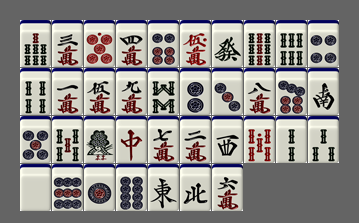0m: (180, 20, 211, 67)
0p: (84, 20, 115, 67)
0s: (244, 116, 275, 163)
1m: (52, 68, 83, 115)
1p: (84, 164, 115, 211)
1s: (84, 116, 115, 163)
1z: (148, 164, 179, 211)
2m: (180, 116, 211, 163)
2p: (180, 68, 211, 115)
2s: (276, 116, 307, 163)
2z: (308, 68, 339, 115)
3m: (52, 20, 83, 67)
3p: (212, 68, 243, 115)
3s: (308, 116, 339, 163)
3z: (212, 116, 243, 163)
4m: (116, 20, 147, 67)
4p: (308, 20, 339, 67)
4s: (20, 68, 51, 115)
4z: (180, 164, 211, 211)
5m: (84, 68, 115, 115)
5p: (20, 116, 51, 163)
5s: (52, 116, 83, 163)
5z: (20, 164, 51, 211)
6m: (212, 164, 243, 211)
6p: (148, 20, 179, 67)
6s: (276, 20, 307, 67)
6z: (212, 20, 243, 67)
7m: (148, 116, 179, 163)
7p: (276, 68, 307, 115)
7s: (20, 20, 51, 67)
7z: (116, 116, 147, 163)
8m: (244, 68, 275, 115)
8p: (116, 164, 147, 211)
8s: (148, 68, 179, 115)
9m: (116, 68, 147, 115)
9p: (52, 164, 83, 211)
9s: (244, 20, 275, 67)
